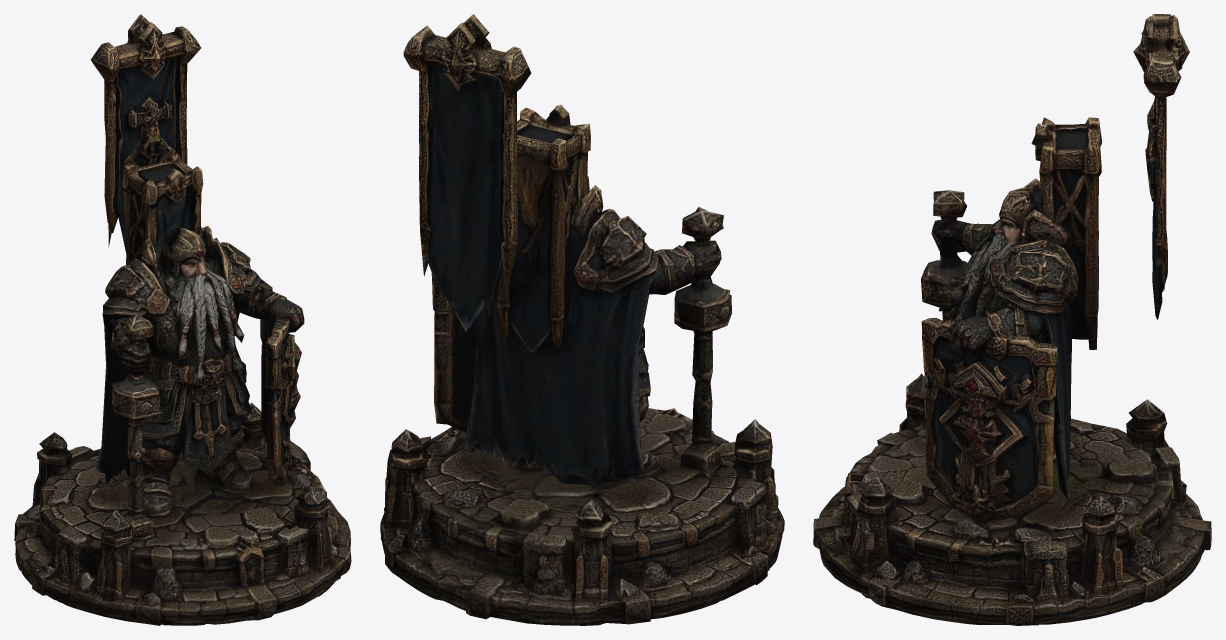
File: gen-dwarf-0.glb
The picture shows the model from 3 angles, left to right: view 1: azimuth 30°, elevation 25°; view 2: azimuth 150°, elevation 25°; view 3: azimuth 270°, elevation 25°; orthographic projection. The views are drawn at different scales.
Parts seen in each view (by area): view 1: tripo_node_555d85fd-d2e2-438d-992e-f23d52eef541; view 2: tripo_node_555d85fd-d2e2-438d-992e-f23d52eef541; view 3: tripo_node_555d85fd-d2e2-438d-992e-f23d52eef541.
Boxes of the visible parts, left/top/right/bottom form: tripo_node_555d85fd-d2e2-438d-992e-f23d52eef541: left=14, top=14, right=351, bottom=625; tripo_node_555d85fd-d2e2-438d-992e-f23d52eef541: left=380, top=14, right=784, bottom=625; tripo_node_555d85fd-d2e2-438d-992e-f23d52eef541: left=813, top=14, right=1211, bottom=625.
Size of the model in its own units: 0.6442 by 0.9997 by 0.6599.
Materials: 1 (1 with a texture image).
